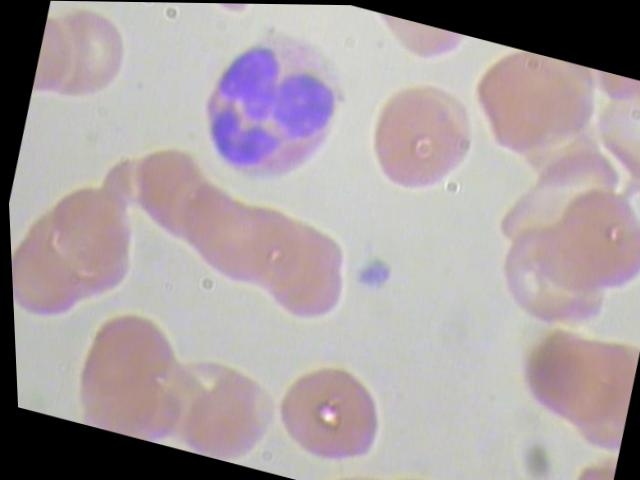Platelets: (347, 247, 400, 295)
Red Blood Cells: (457, 39, 610, 179), (257, 344, 403, 479), (350, 74, 496, 209), (162, 345, 285, 470), (531, 169, 639, 307), (36, 179, 148, 285), (71, 303, 185, 406), (38, 4, 144, 111), (109, 135, 215, 241), (504, 323, 609, 429), (251, 238, 356, 338), (8, 226, 98, 333)
White Blood Cells: (173, 14, 363, 201)
